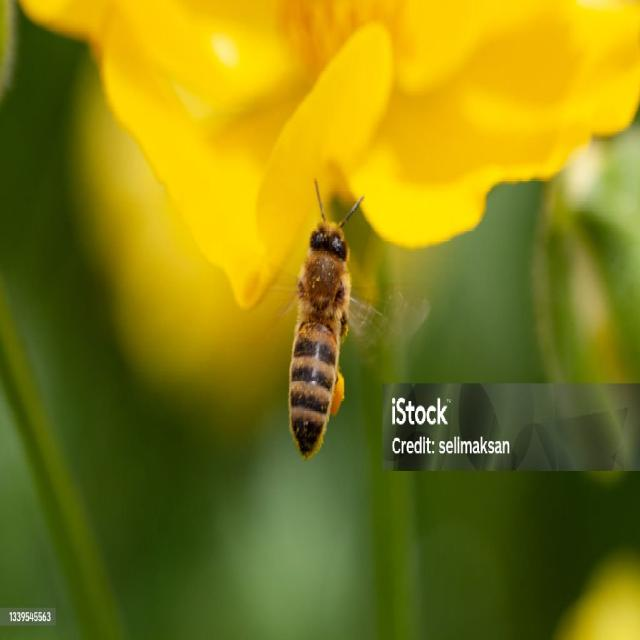bees: (231, 170, 434, 458)
